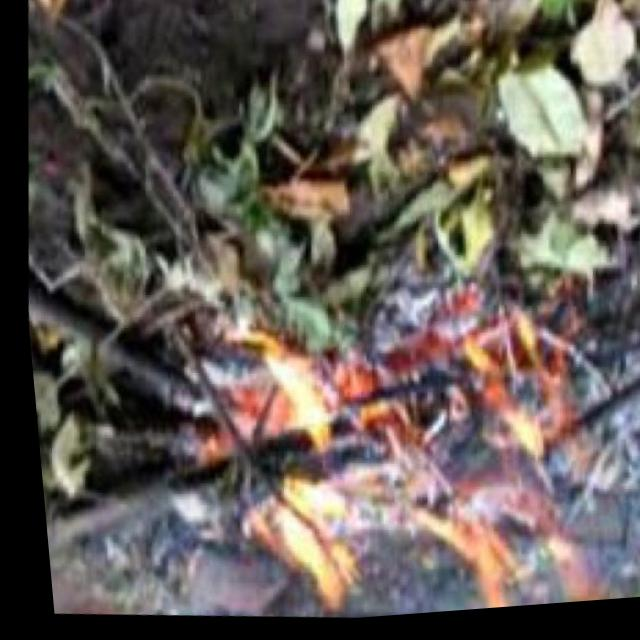Fire: (186, 309, 612, 631)
